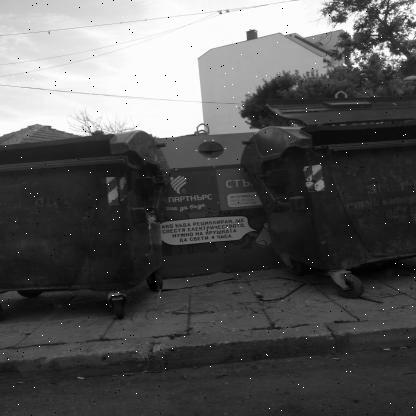cardboard: (162, 272, 236, 290)
